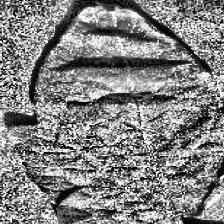spider mites: (8, 4, 224, 223)
